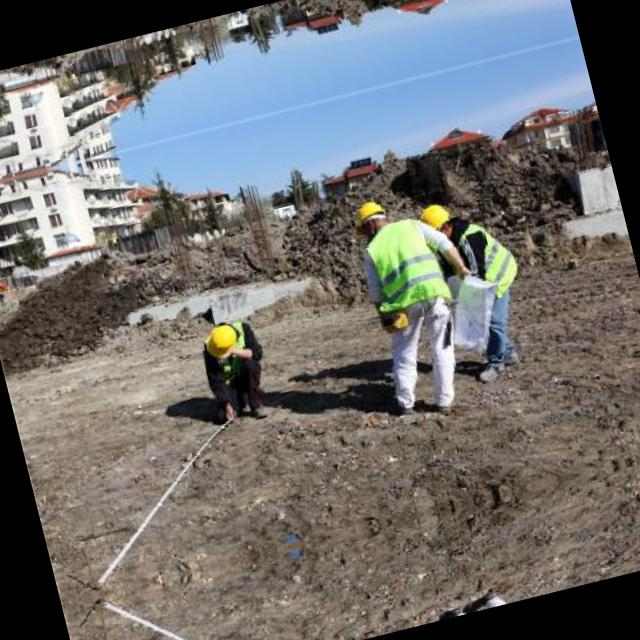helmet: (345, 193, 389, 236), (198, 321, 240, 360), (414, 198, 452, 239)
